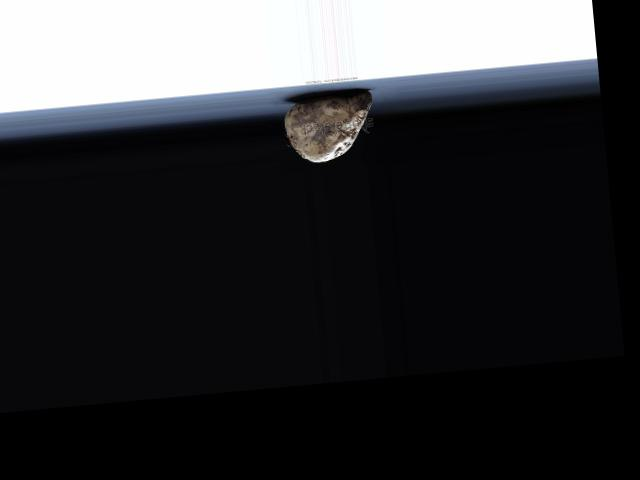beet: (280, 90, 375, 164)
